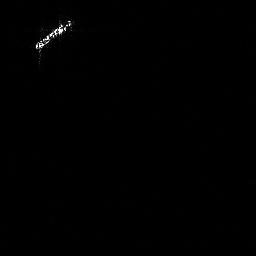ship: (33, 18, 74, 62)
